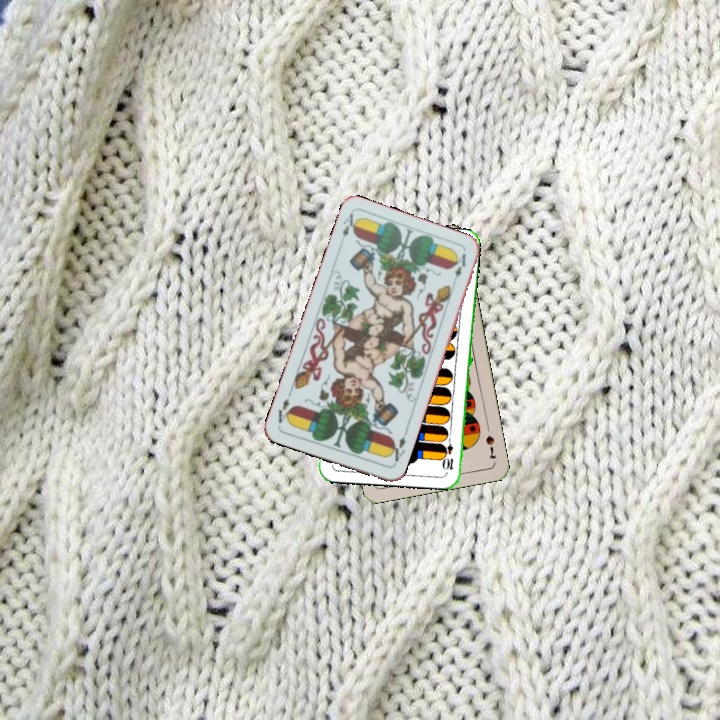E10: (441, 432, 456, 473)
EA: (384, 428, 410, 467), (338, 209, 360, 240)
S7: (482, 431, 499, 462)
